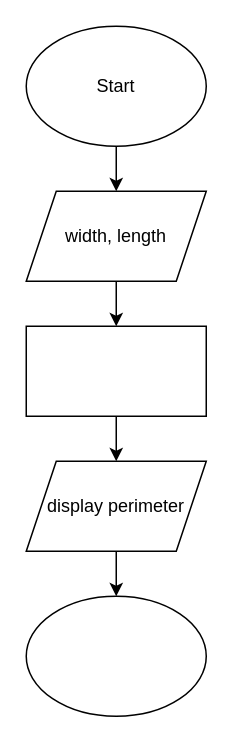
Some shapes in this 233 by 743 pixel diagram are drawn without their labels. The centre of each missing label's shape, as x and y in pixels:
"Finish" belongs at [115,655].
"perimeter = 2 * (length + width)" belongs at [115,370].
